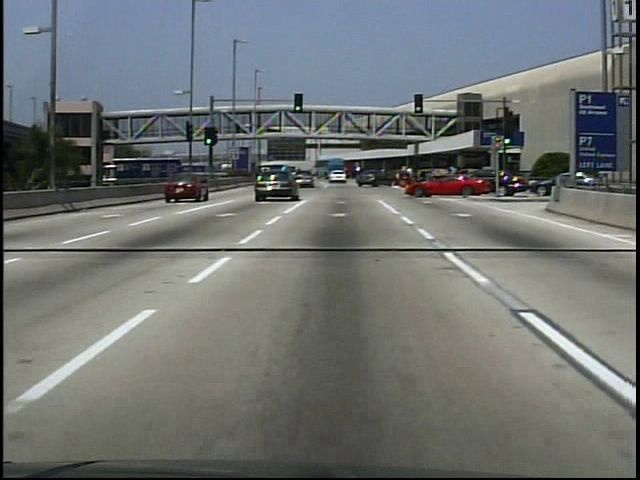person: (236, 124, 243, 137)
